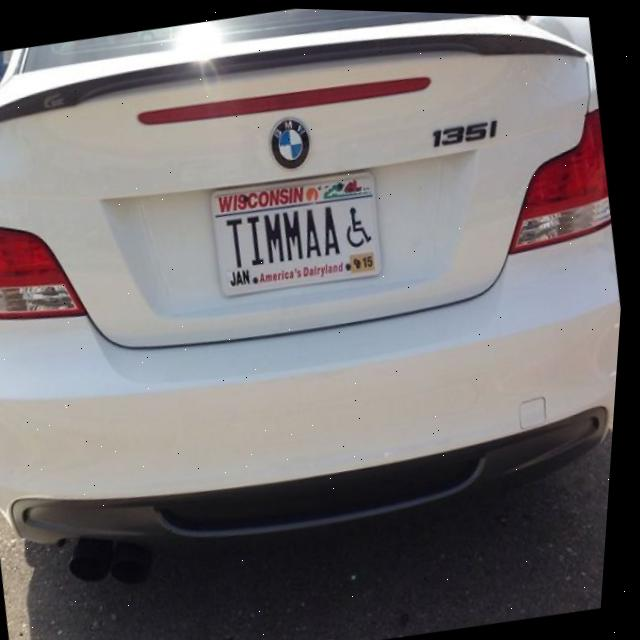symbol_of_access: (339, 200, 376, 250)
